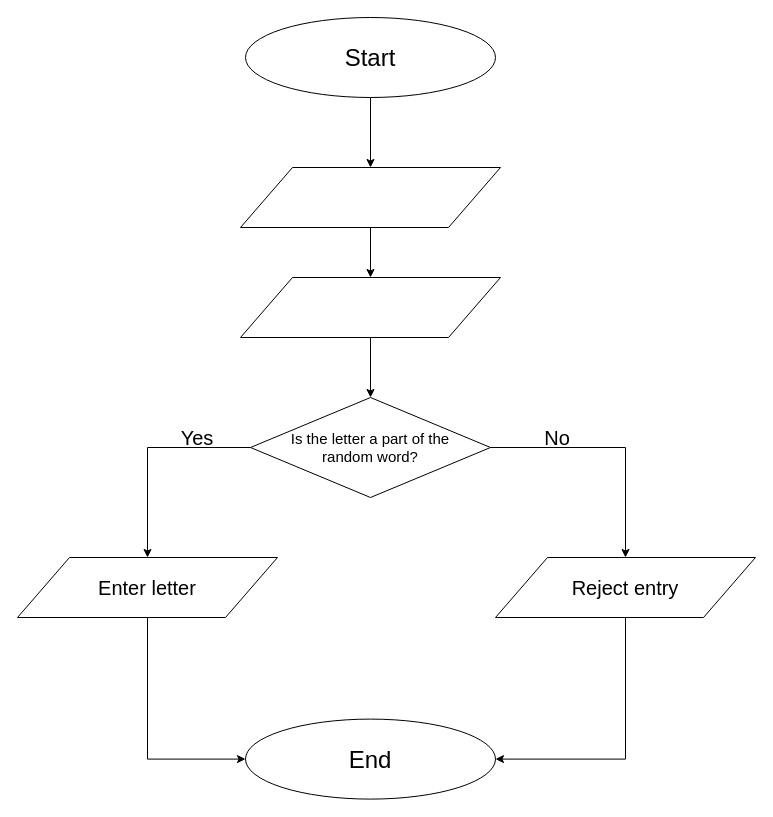
This 773x817 diagram has some shape labels left out. The shapes that lost their labels are listed below. From the top down, each one's box as (x1, y1, x2, y2) in pixels, then its label:
(240, 166, 500, 228): Generate random word
(240, 276, 500, 338): Guess letter
